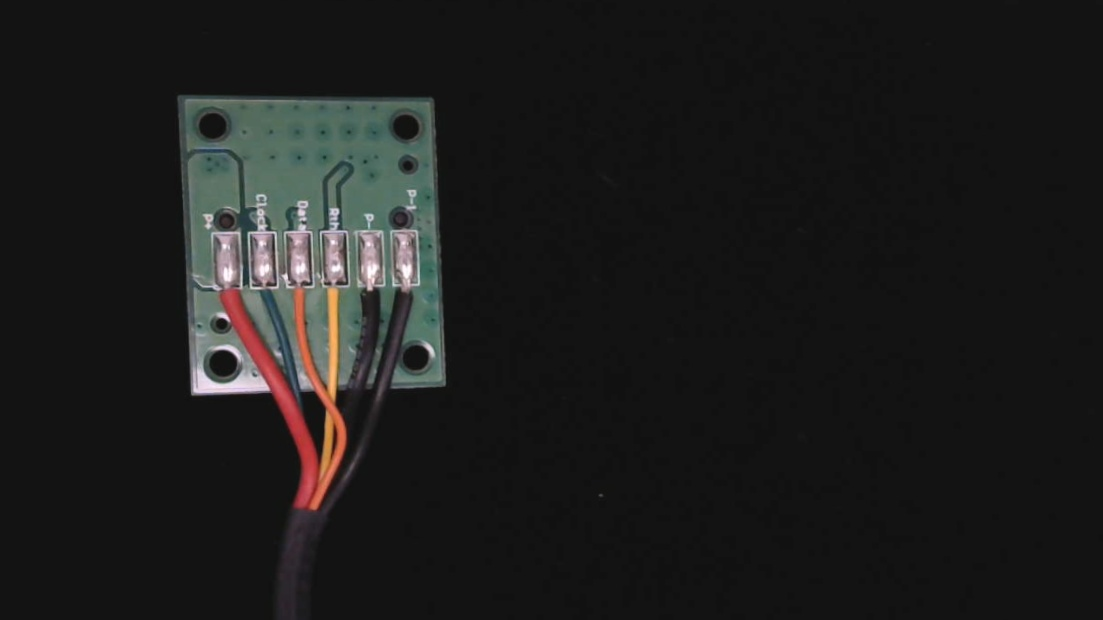Black: (349, 272, 379, 335)
Black1: (386, 271, 415, 329)
Green: (246, 272, 276, 333)
Orange: (281, 272, 309, 335)
Red: (211, 273, 240, 334)
Yellow: (315, 272, 345, 337)
